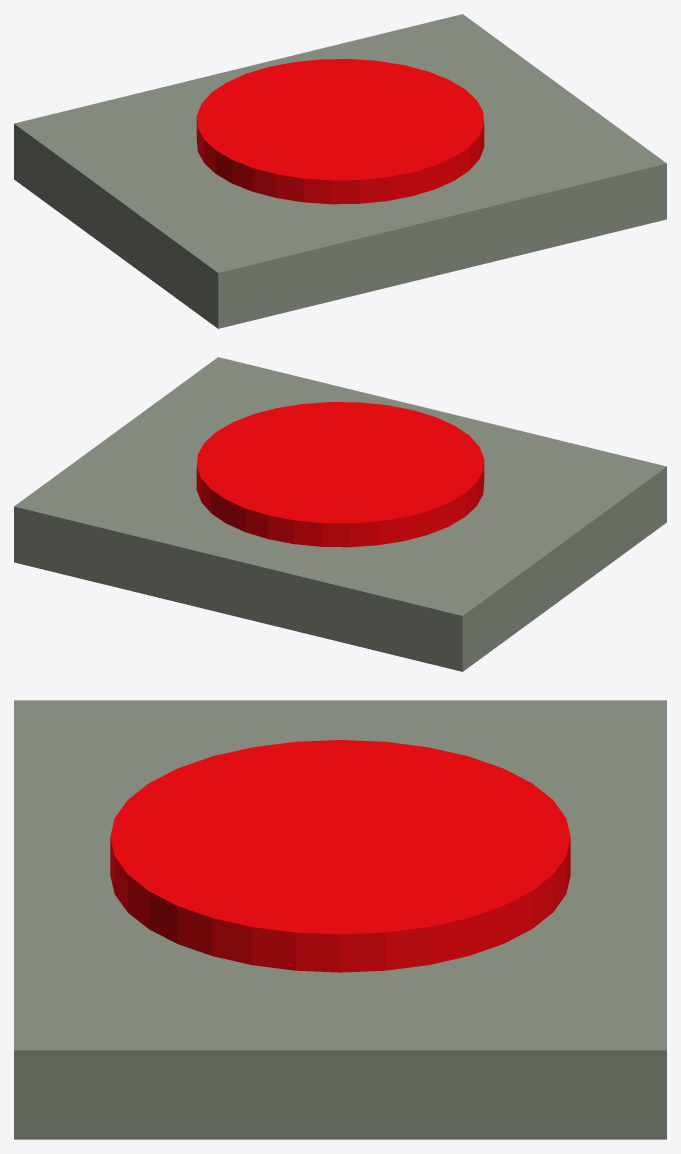
The model's file is botao.fbx.
The picture shows the model from 3 angles, top to bottom: view 1: azimuth 30°, elevation 25°; view 2: azimuth 150°, elevation 25°; view 3: azimuth 270°, elevation 25°; orthographic projection. The views are drawn at different scales.
Visible parts, largest first — view 1: Cube, Cylinder; view 2: Cube, Cylinder; view 3: Cube, Cylinder.
Boxes of the visible parts, left/top/right/bottom form: Cube: left=14, top=14, right=666, bottom=328; Cylinder: left=196, top=59, right=484, bottom=204; Cube: left=14, top=357, right=666, bottom=671; Cylinder: left=196, top=402, right=484, bottom=547; Cube: left=14, top=700, right=666, bottom=1139; Cylinder: left=110, top=740, right=570, bottom=972.
Bounding box in the file's own units: 89.96 × 15.27 × 70.9.
